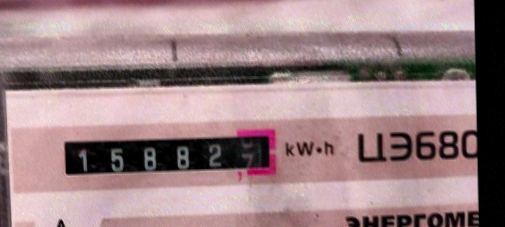1: (76, 145, 90, 173)
2: (207, 141, 223, 169)
5: (108, 145, 126, 172)
7: (239, 150, 255, 168)
8: (141, 144, 157, 173), (175, 143, 190, 171)
screen: (50, 121, 286, 188)
